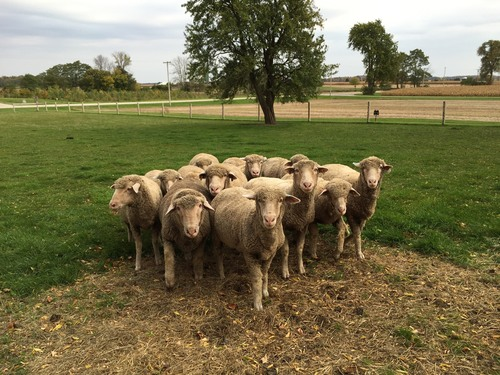sheep: (208, 182, 285, 294), (326, 152, 382, 254), (157, 182, 212, 284), (111, 173, 164, 271), (288, 151, 321, 255), (317, 175, 354, 263), (197, 154, 240, 197), (245, 138, 281, 186), (190, 150, 221, 177)
